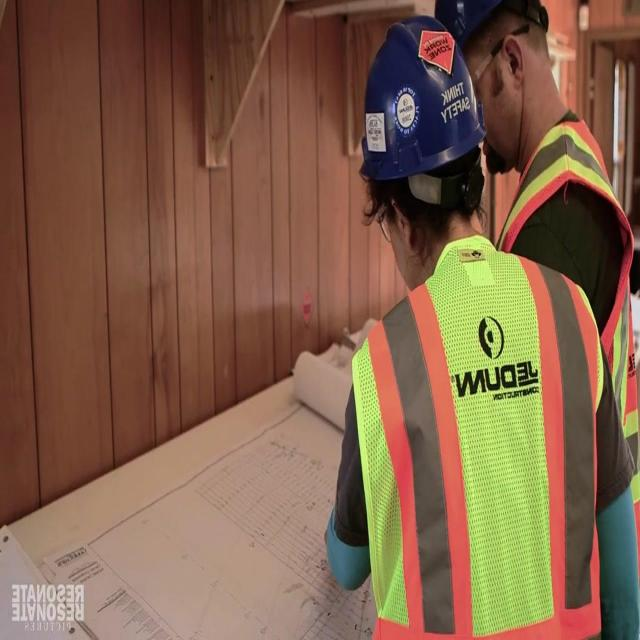Reflective-Jacket: (338, 244, 616, 636), (486, 101, 639, 618)
Safety-Helmet: (351, 13, 491, 193)
